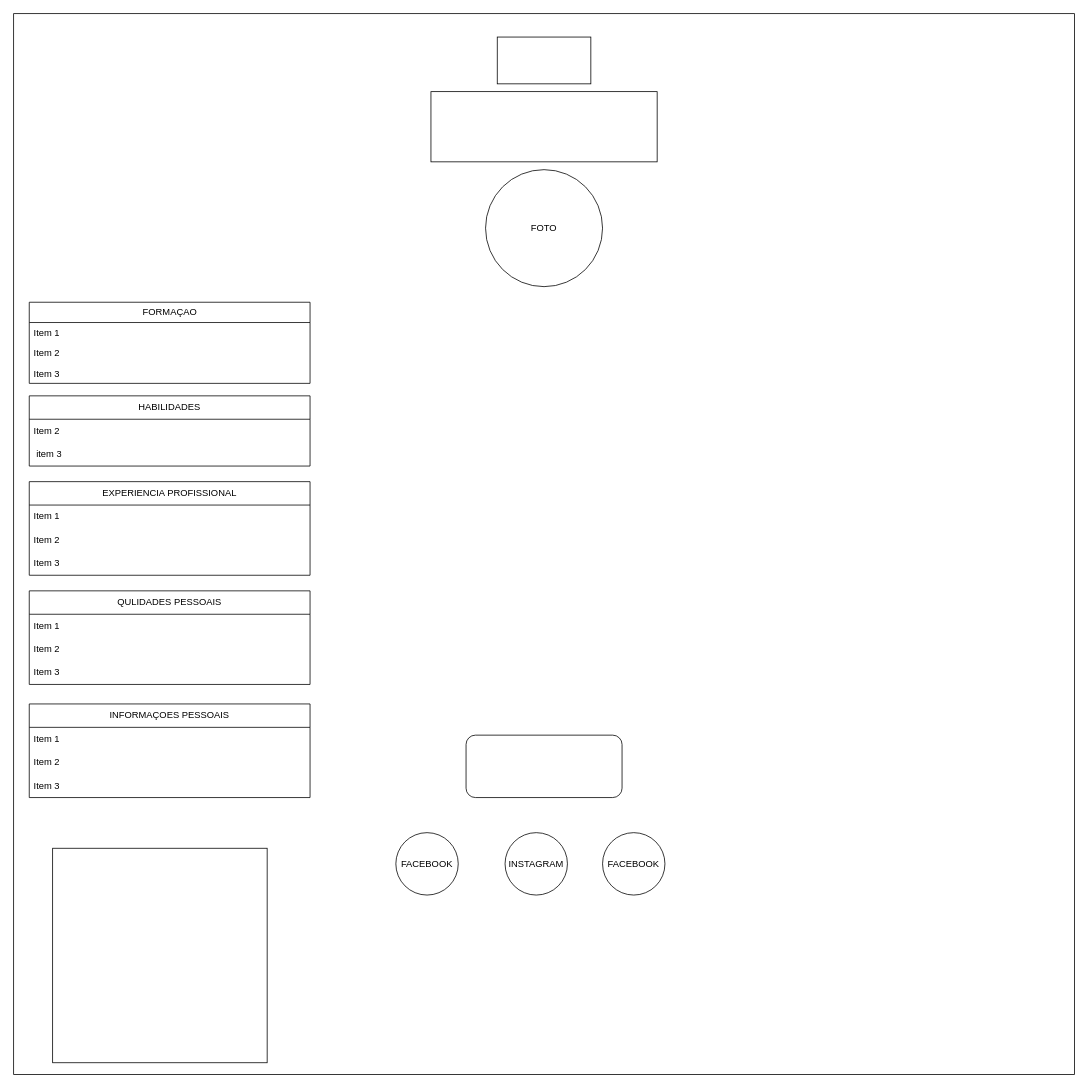
Some shapes in this 1088 by 1088 pixel diagram are drawn without their labels. Each missing label, with the centre of its shape:
"DESRIÇÃO" goes at pixel 543 126.
"ENTR EM CONTTO" goes at pixel 159 955.
"NOME" goes at pixel 543 60.
"REDES SOCIAIS" goes at pixel 543 766.
